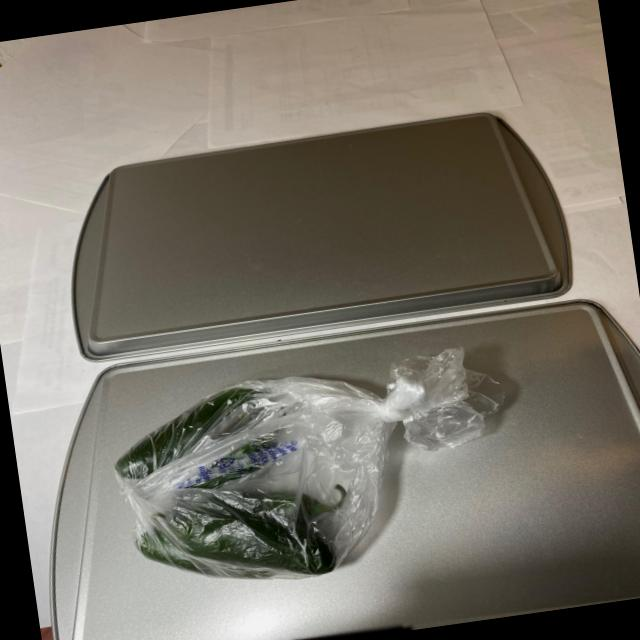chilli: (106, 372, 364, 604)
